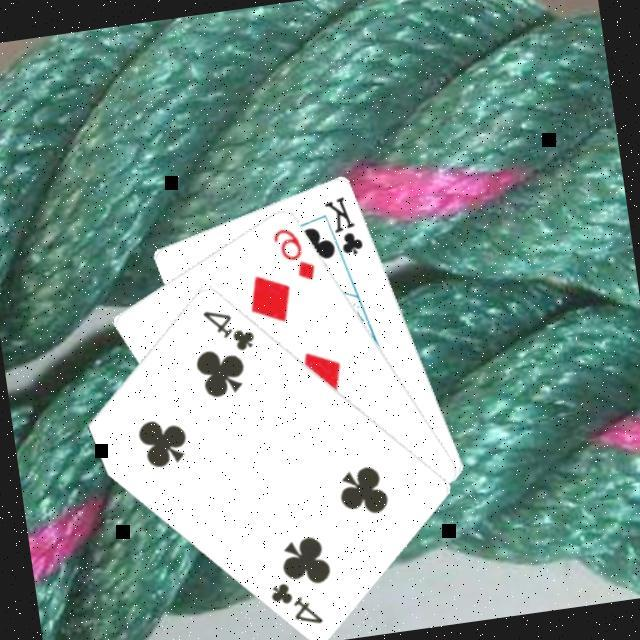4C: (263, 575, 326, 635), (197, 302, 258, 360)
6D: (267, 221, 319, 289)
KC: (316, 191, 368, 271)
